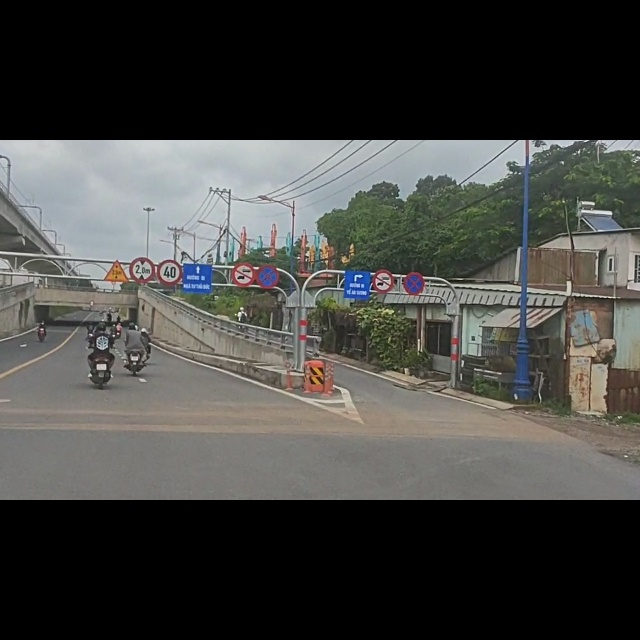bien_chi_dan: (129, 207, 156, 255), (101, 211, 129, 254), (158, 211, 183, 258), (255, 219, 280, 265), (231, 216, 255, 260), (403, 232, 426, 277), (372, 229, 394, 273)
